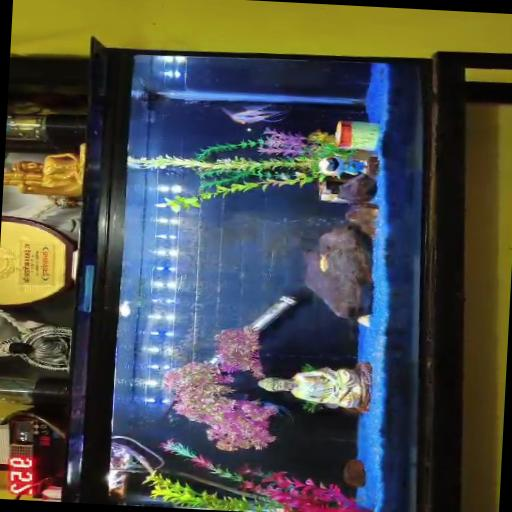Fish: (223, 104, 287, 124), (262, 402, 294, 419)
